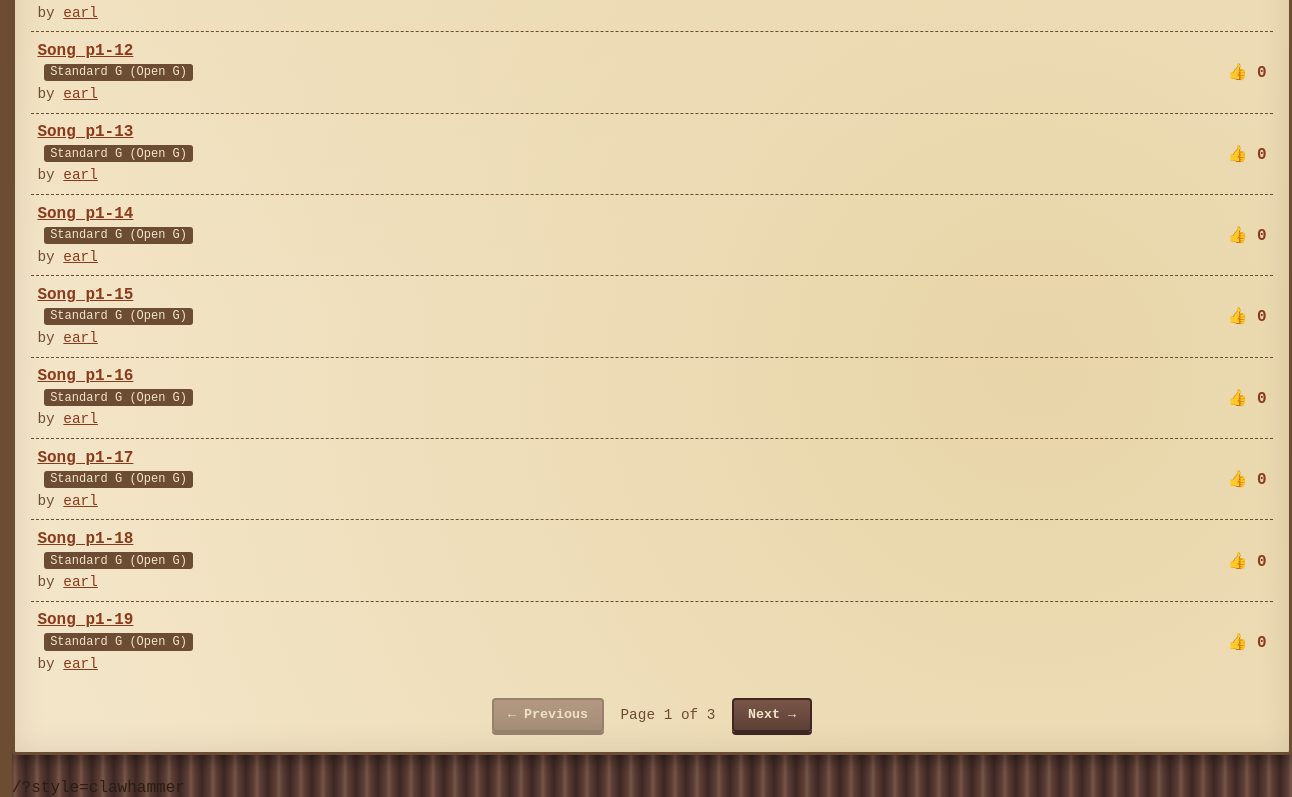
Test: HomePage pagination › pages through results, keeping the page in the URL
(page scrolled)
Expected: the text "Page 1 of 3" is shown, [620, 707, 716, 723]
Expected: the button "← Previous" is disabled, [492, 698, 604, 732]
Click the button "Next →" at (772, 715), box [732, 698, 812, 732]
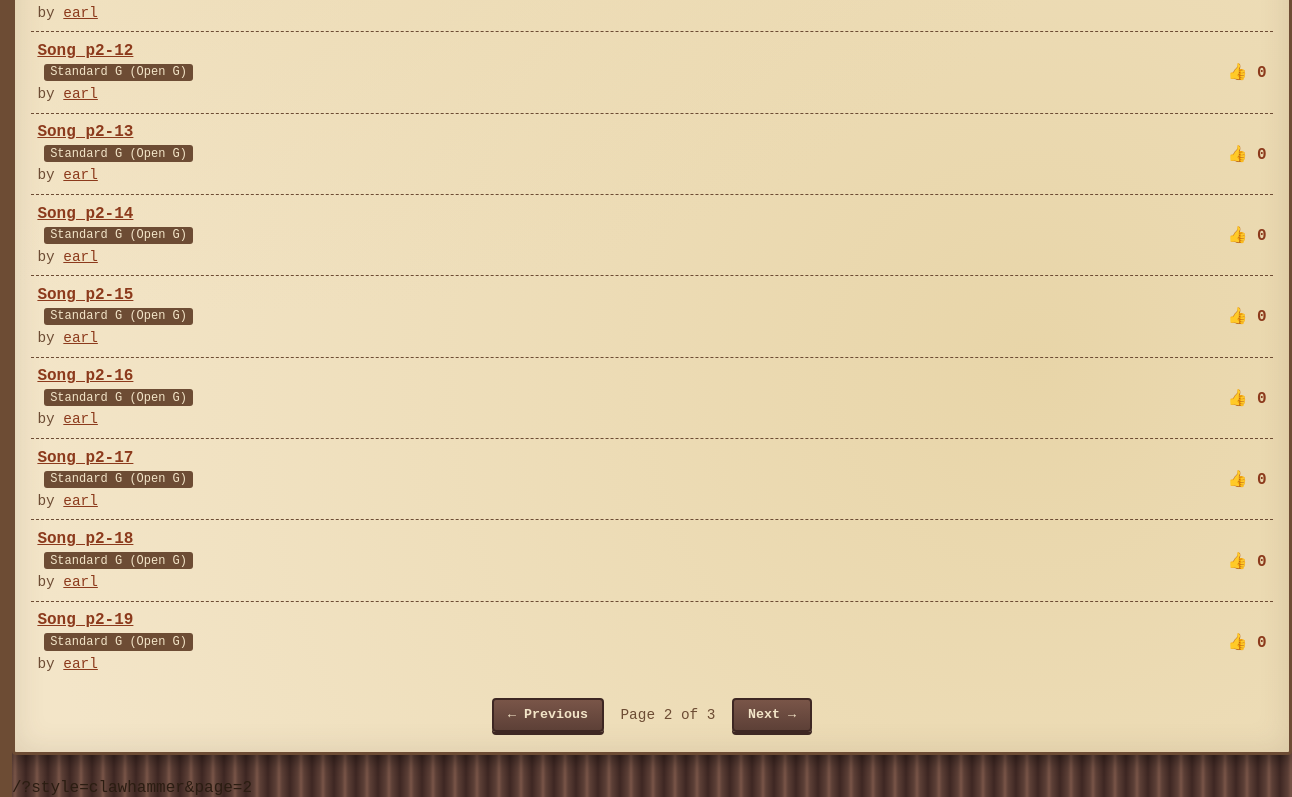
Result: the text "Page 2 of 3" is shown at [620, 707, 716, 723]
Result: the text with test id "location" shows "page=2" at [12, 778, 252, 796]
Click the button "Next →" at (772, 715), box [732, 698, 812, 732]
(page scrolled)
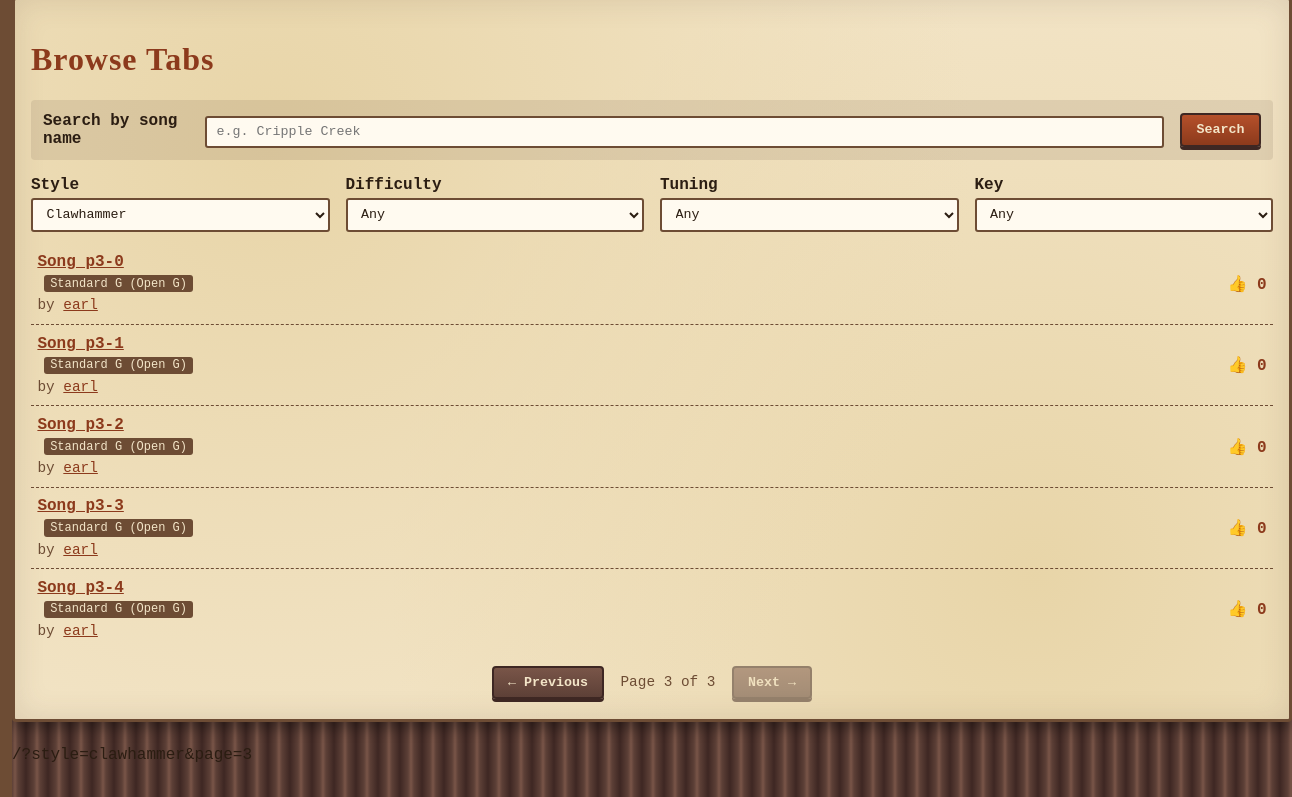
Result: the text "Page 3 of 3" is shown at [620, 674, 716, 690]
Result: the button "Next →" is disabled at [732, 666, 812, 699]
Note: Changing a filter goes back to the first page.
Select "Beginner" in the dropdown labelled "Difficulty" at (495, 215), box [346, 198, 644, 232]
(page scrolled)
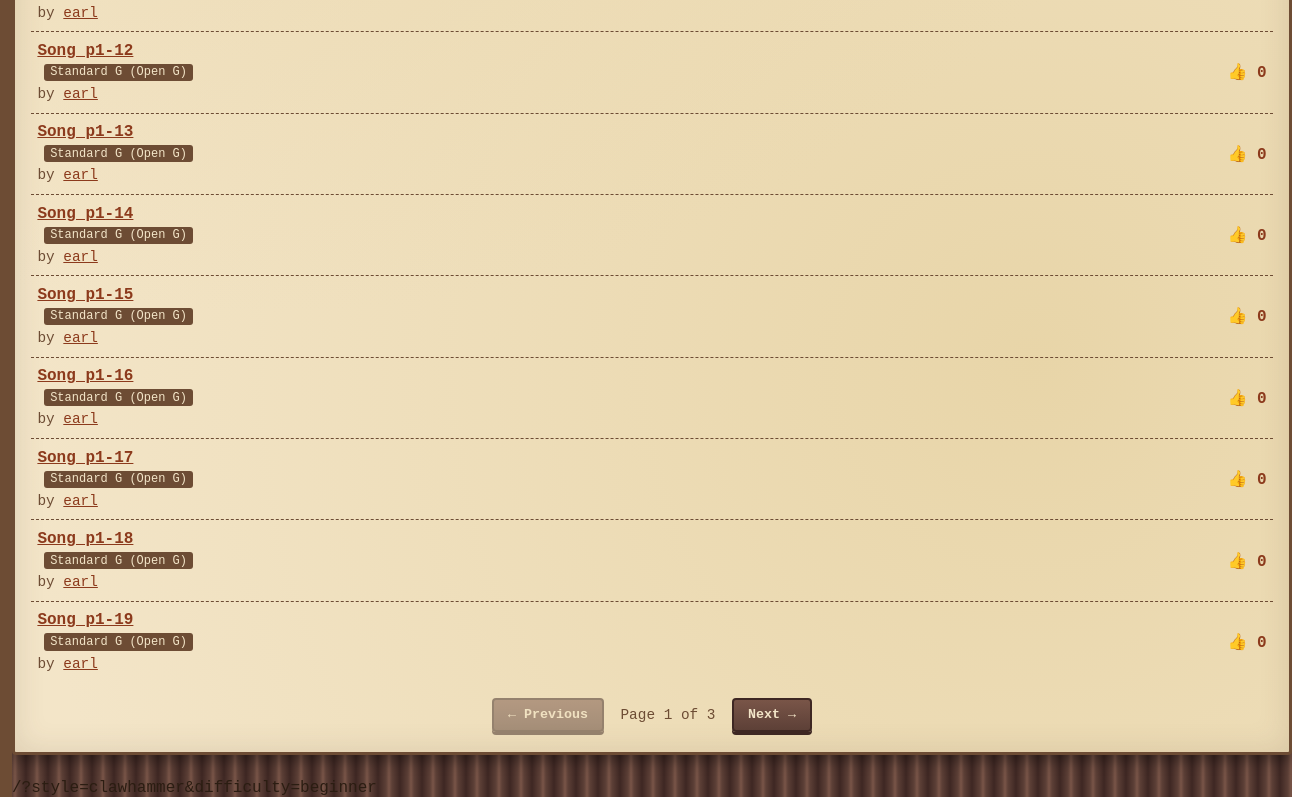
Result: the text with test id "location" no longer shows "page=" at [12, 778, 377, 796]
